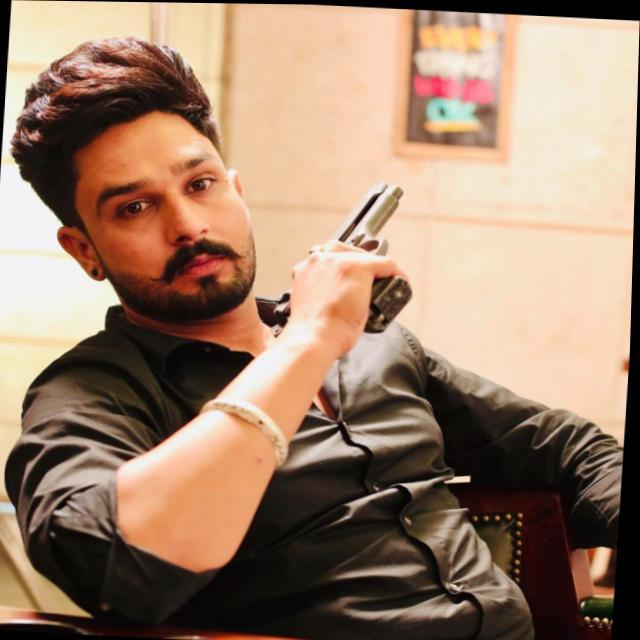weapon: (268, 173, 426, 345)
